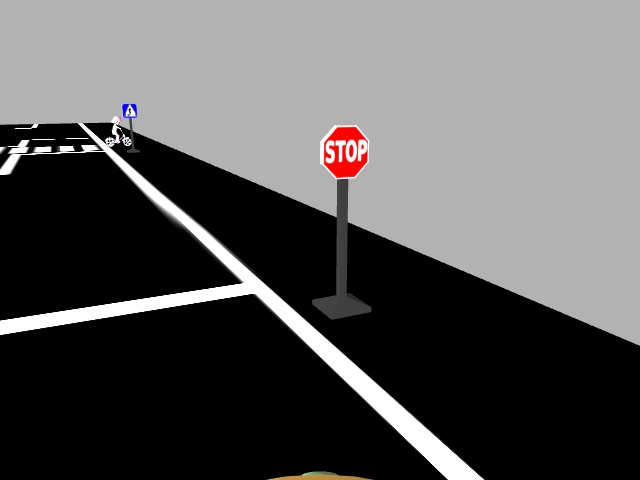Stop: (315, 123, 373, 178)
